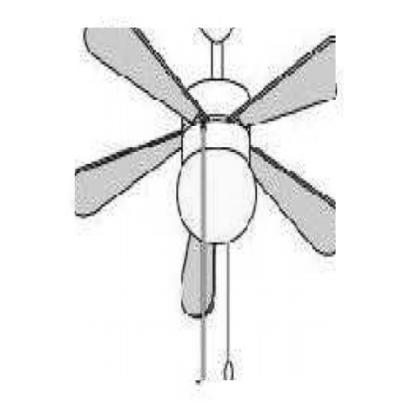ceiling-fan: (75, 28, 336, 381)
